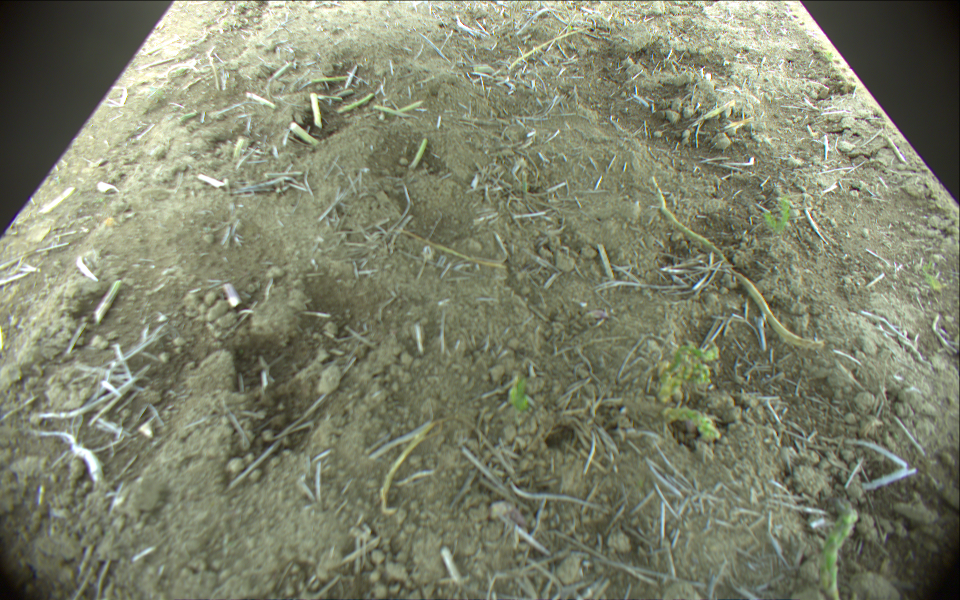aspa: (510, 22, 594, 71), (818, 509, 859, 600), (289, 122, 321, 147), (342, 94, 373, 113), (242, 90, 273, 108), (311, 93, 325, 127), (376, 105, 410, 118), (307, 74, 350, 84)
